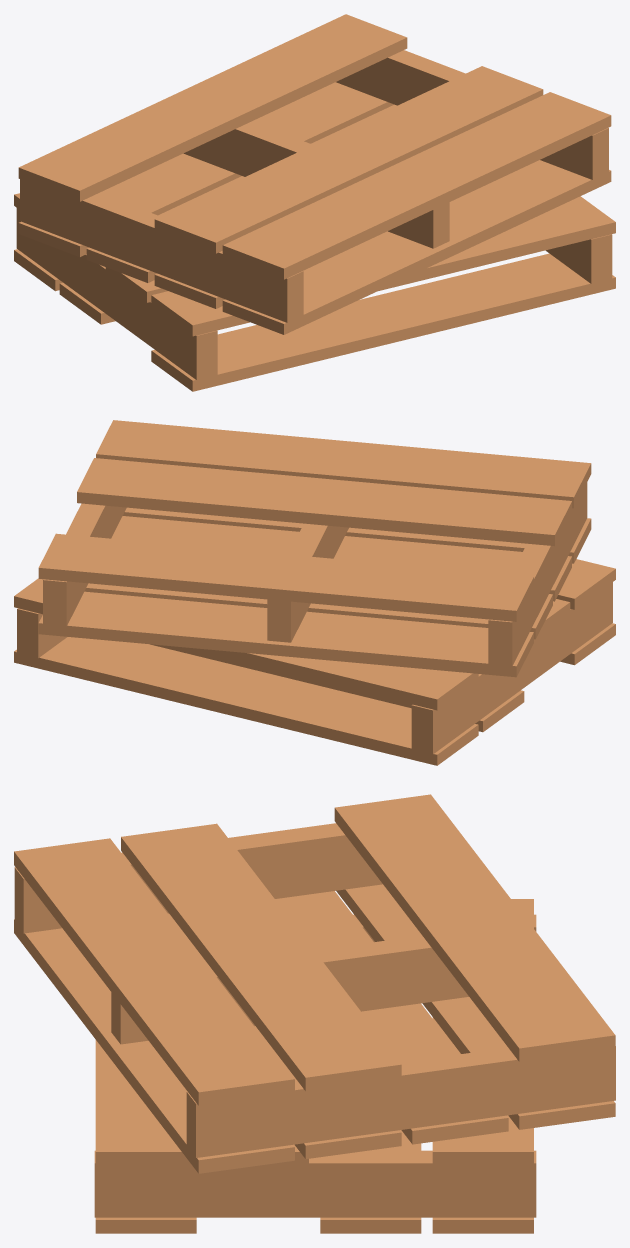
The model's file is CagetteDouble.fbx.
3 renders of one model, top to bottom at view 1: azimuth 30°, elevation 25°; view 2: azimuth 150°, elevation 25°; view 3: azimuth 270°, elevation 25°, orthographic. The views are drawn at different scales.
Parts seen in each view (by area): view 1: Cube.009; view 2: Cube.009; view 3: Cube.009.
Part boxes in pixels (x1,y1,x2,y2): Cube.009: (14, 14, 615, 391); Cube.009: (14, 420, 615, 765); Cube.009: (14, 794, 615, 1233).
Size of the model in its own units: 471 by 120 by 402.
